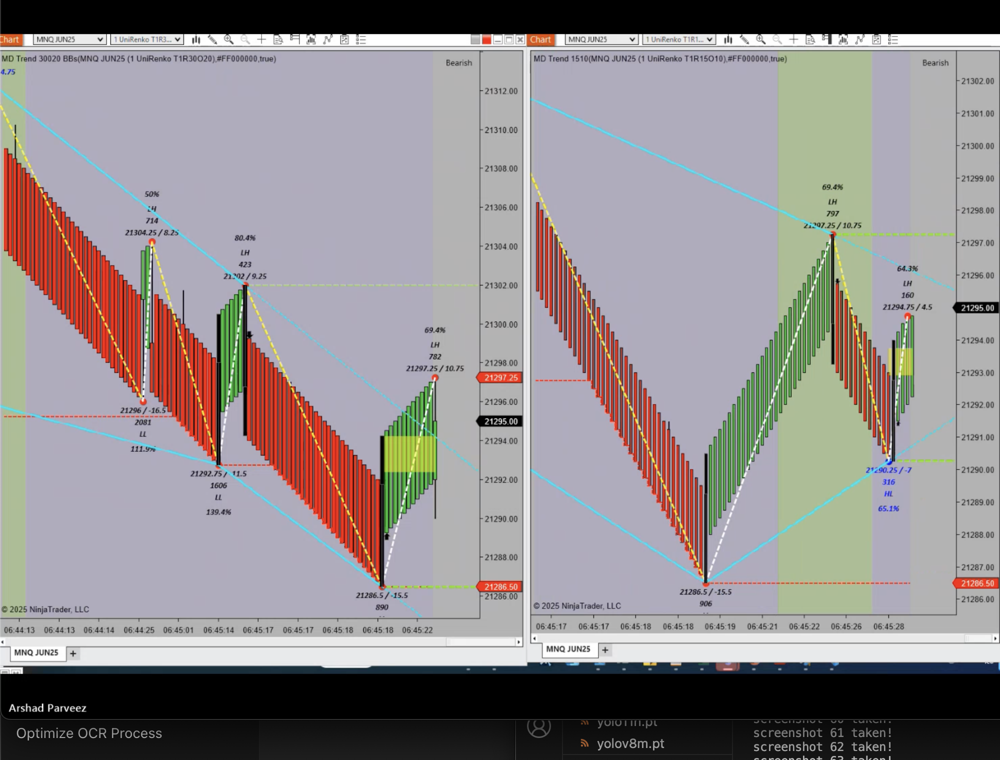HL: (880, 484, 897, 506)
LH: (235, 244, 257, 264), (144, 200, 166, 217), (899, 275, 919, 293), (823, 195, 844, 211), (210, 491, 231, 507), (135, 425, 153, 443), (424, 340, 448, 352)
